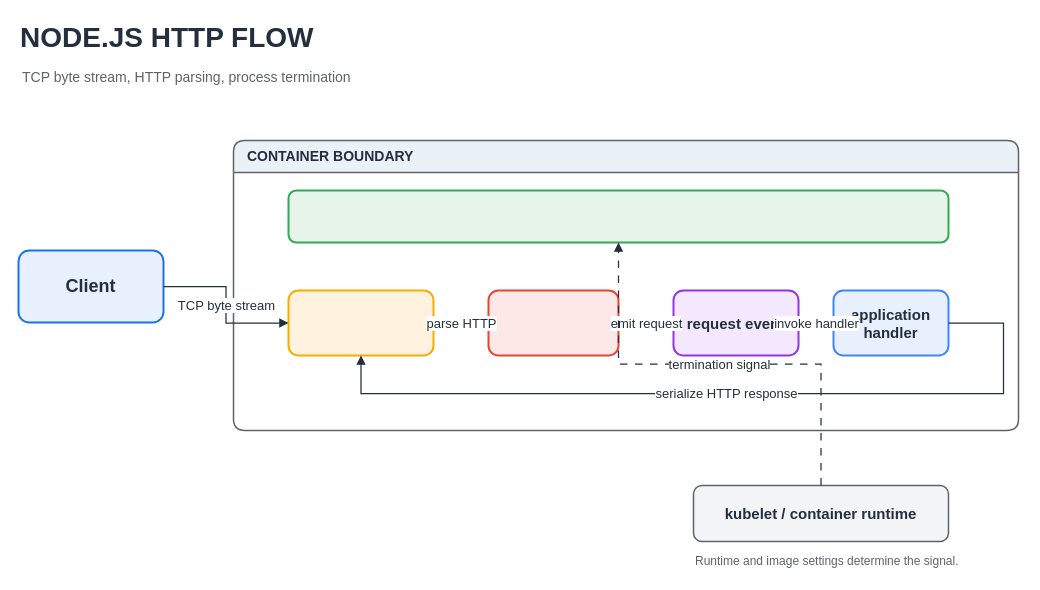
The diagram is 1040 pixels wide and 590 high, and some of its shapes have lost their labels. The shapes that lost their labels are listed below. From the top down, each one's centre as x and y in pixels, then its label:
At (x=618, y=216): "Node.js process (PID 1)".
At (x=360, y=322): "Accepted TCP socket".
At (x=553, y=322): "HTTP parser".
